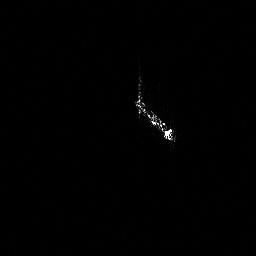ship: (130, 72, 179, 145)
